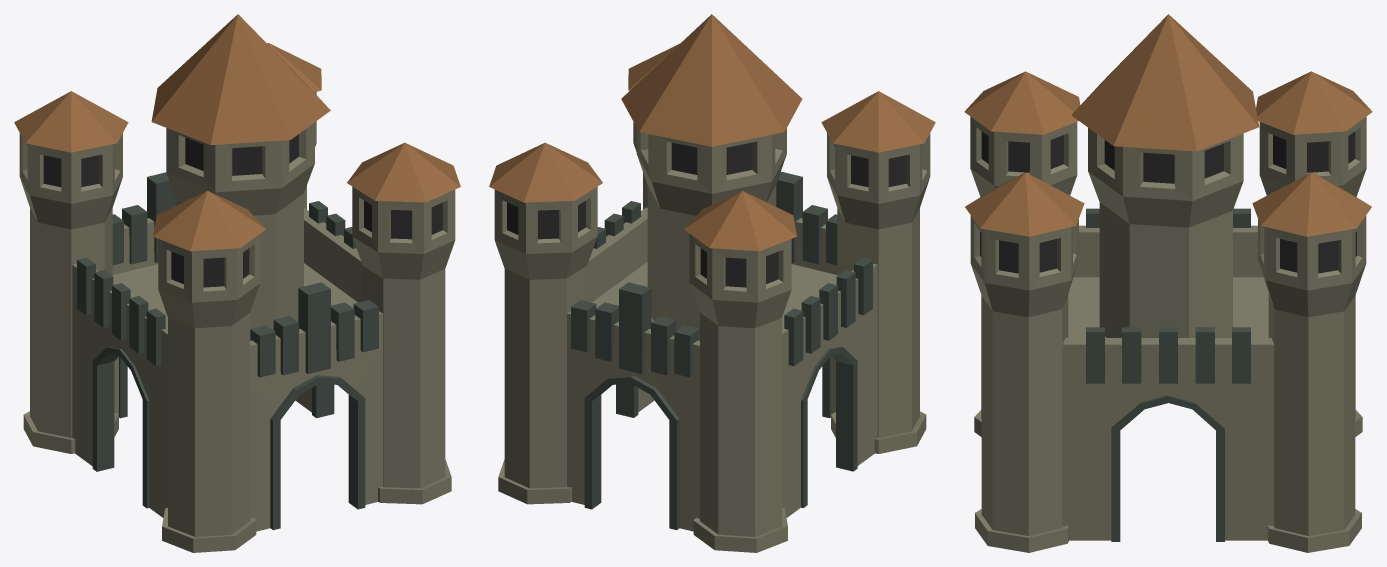
File: Castle_3_lvl_mat.fbx
3 views of the same model, side by side, from view 1: azimuth 30°, elevation 25°; view 2: azimuth 150°, elevation 25°; view 3: azimuth 270°, elevation 25° (orthographic). The views are drawn at different scales.
Parts seen in each view (by area): view 1: Castle_3_lvl_mat; view 2: Castle_3_lvl_mat; view 3: Castle_3_lvl_mat.
Part boxes in pixels (x1,y1,x2,y2): Castle_3_lvl_mat: (14, 14, 460, 552); Castle_3_lvl_mat: (489, 14, 935, 552); Castle_3_lvl_mat: (964, 14, 1372, 552).
Bounding box in the file's own units: 4.83 × 6.89 × 5.46.
